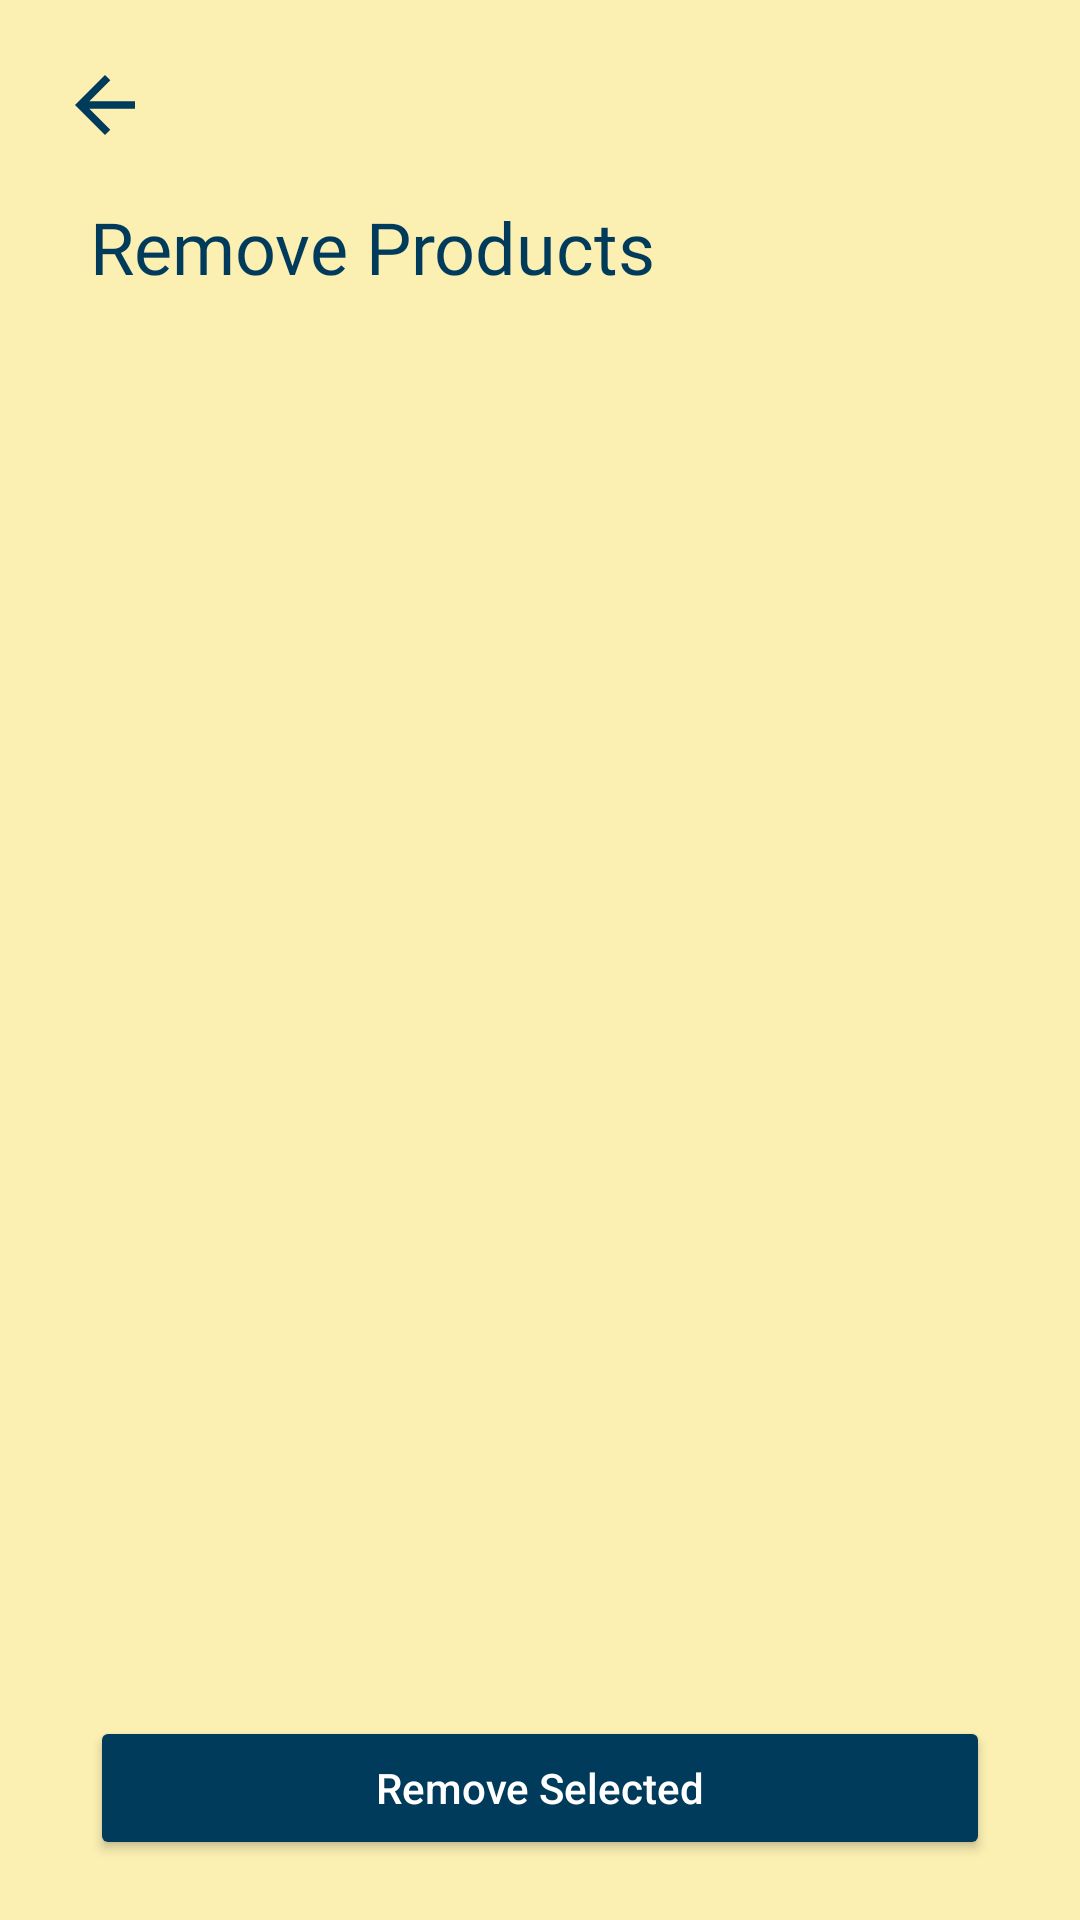

Where to tap for icons on this 1080×1920 app screen, as (x,y):
arrow back: (105,105)
